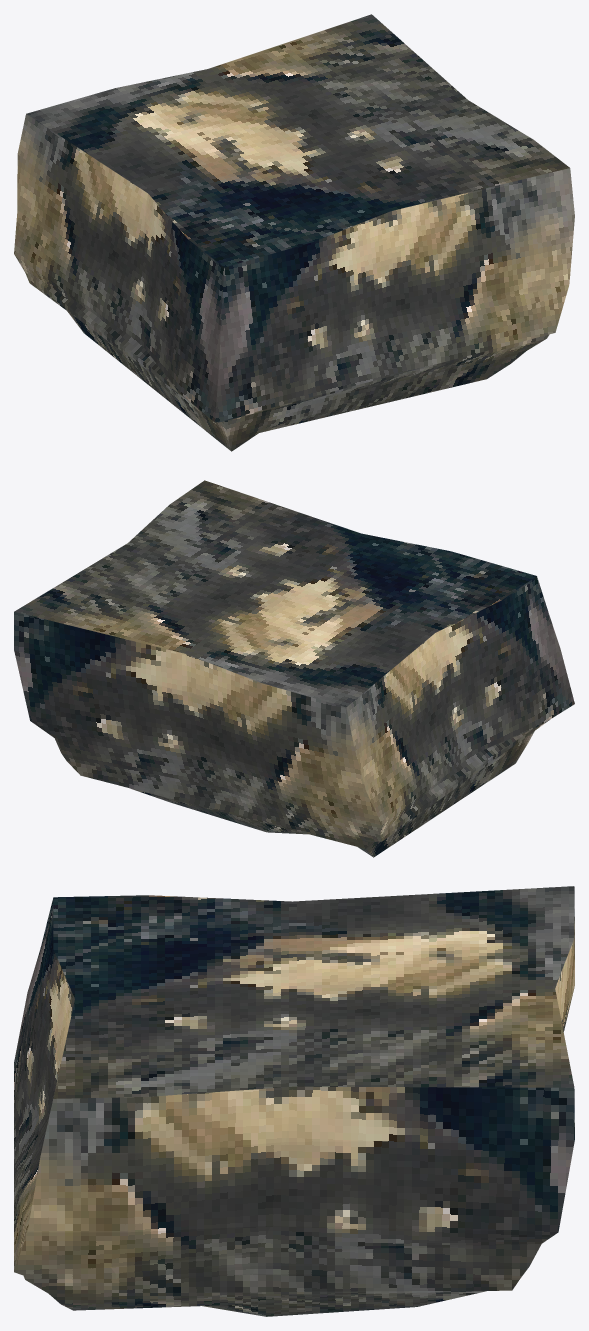
3 views of the same model, one above another, from view 1: azimuth 30°, elevation 25°; view 2: azimuth 150°, elevation 25°; view 3: azimuth 270°, elevation 25° (orthographic). The views are drawn at different scales.
Visible parts, largest first — view 1: SPLICE_2; view 2: SPLICE_2; view 3: SPLICE_2.
Boxes of the visible parts, x1,y1,x2,y2 form: SPLICE_2: (14, 14, 574, 451); SPLICE_2: (14, 480, 574, 857); SPLICE_2: (14, 886, 574, 1316).
Size of the model in its own units: 1.3 by 0.7738 by 1.29.
Materials: 1 (1 with a texture image).
